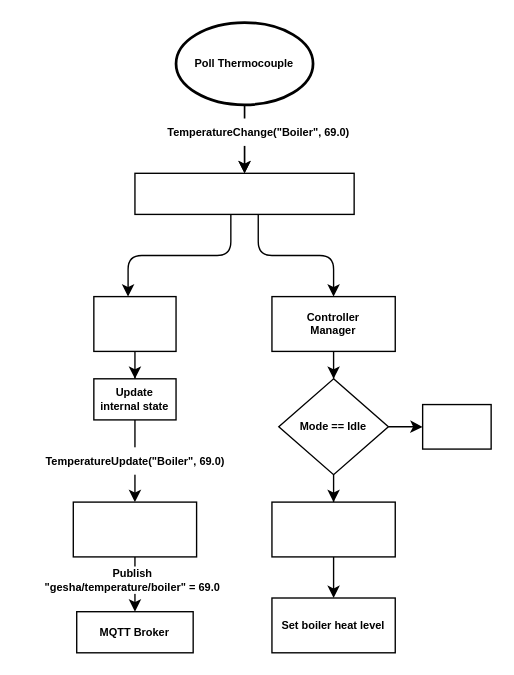
Some shapes in this 514 by 675 pixel diagram are drawn without their labels. The shapes that lost their labels are listed below. From the top down, each one's centre as x and y in pixels, then its label:
At (244,193): "Broadcast Channel".
At (134,323): "State Controller".
At (456,426): "Turn off boiler".
At (134,529): "MQTT API".
At (333,529): "Poll Controller with new temperature".
